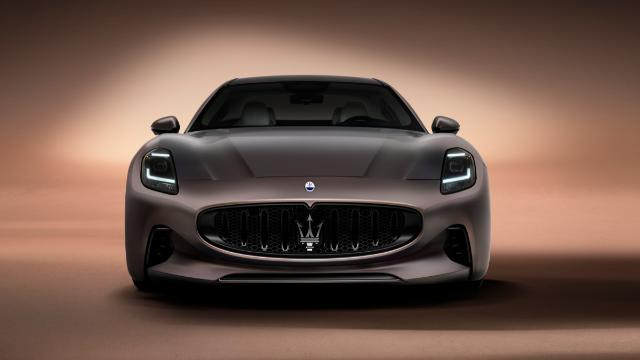maserati: (124, 75, 492, 299)
